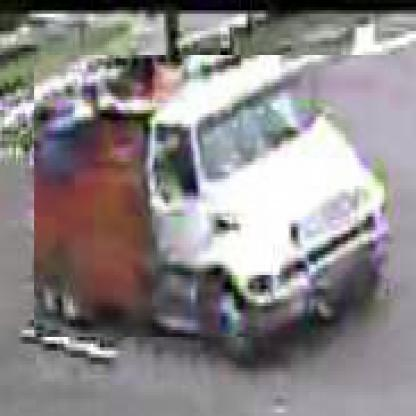truck: (35, 56, 392, 341)
